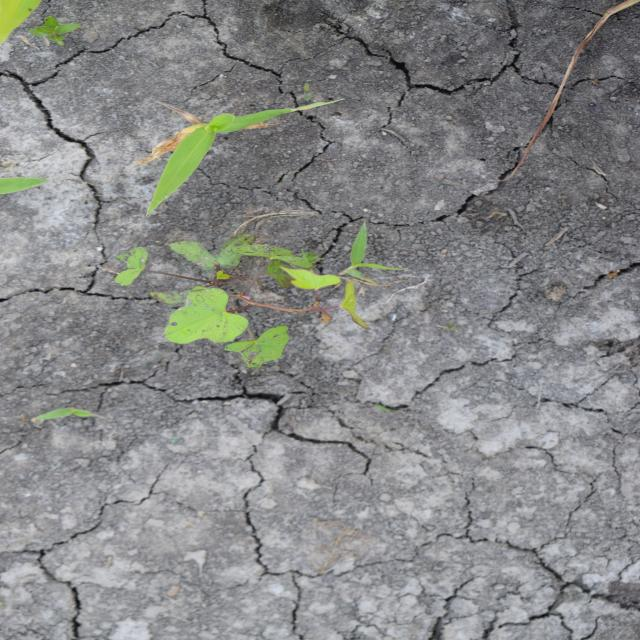MorningGlory: (112, 232, 374, 376)
